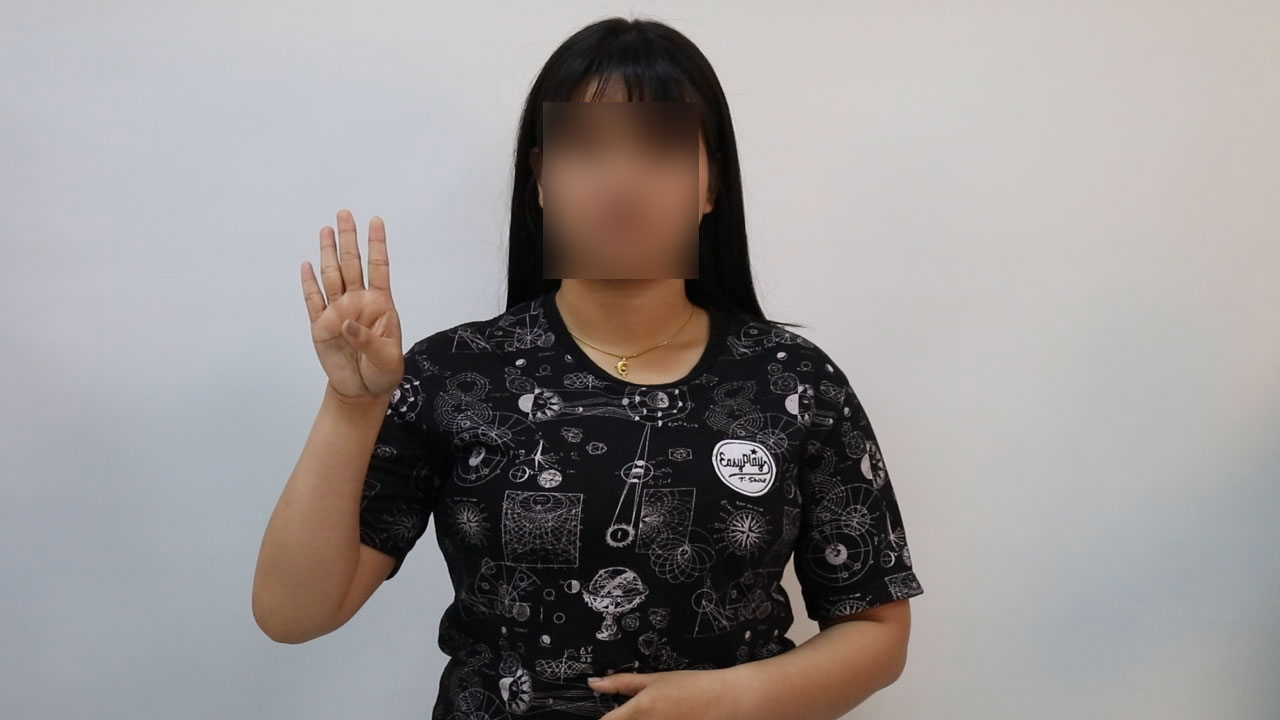bor: (283, 197, 420, 428)
